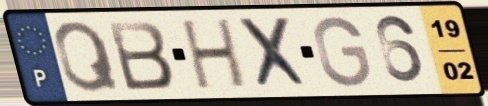6: (373, 12, 428, 88)
B: (104, 19, 177, 93)
G: (312, 14, 374, 90)
H: (180, 15, 250, 93)
Q: (51, 18, 124, 95)
X: (233, 15, 315, 91)
